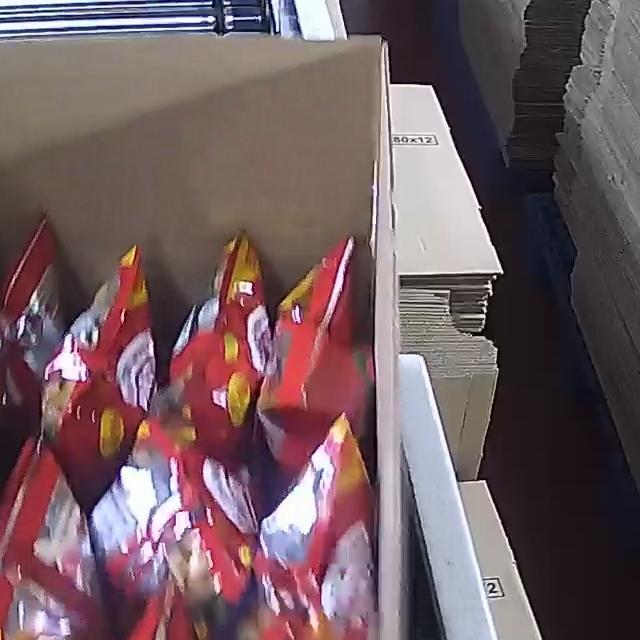masala: (0, 213, 384, 640)
